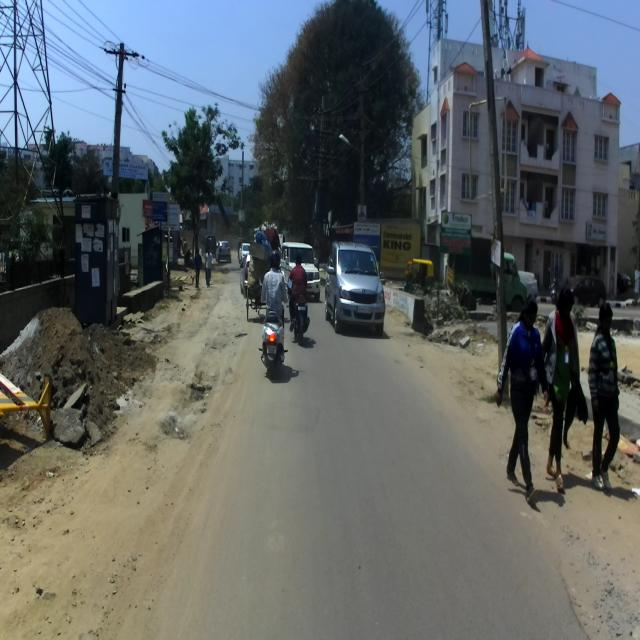car ahead at: (327, 236, 385, 335)
motorcycle ahead at: (260, 316, 294, 384)
